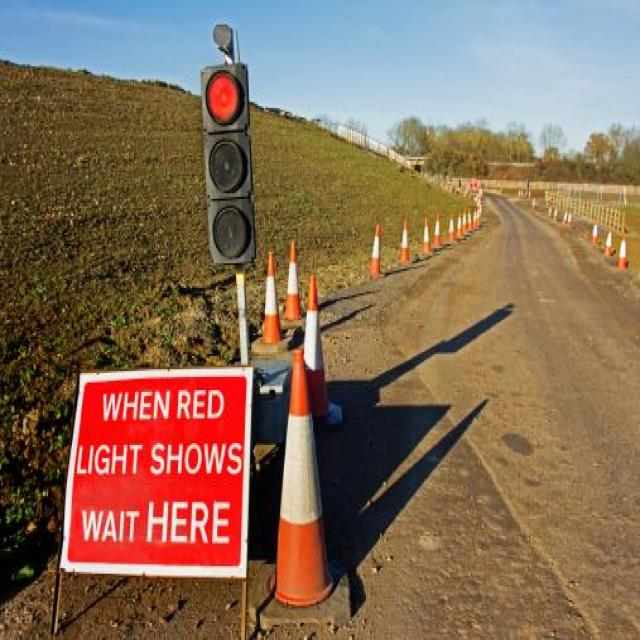Cone: (254, 346, 348, 628), (298, 275, 341, 422), (252, 248, 292, 348), (282, 240, 308, 330), (369, 222, 385, 282), (400, 220, 412, 267), (422, 216, 433, 259), (433, 212, 442, 248), (592, 216, 600, 246), (605, 225, 612, 258), (448, 212, 455, 242), (621, 233, 626, 267), (458, 212, 463, 241)
